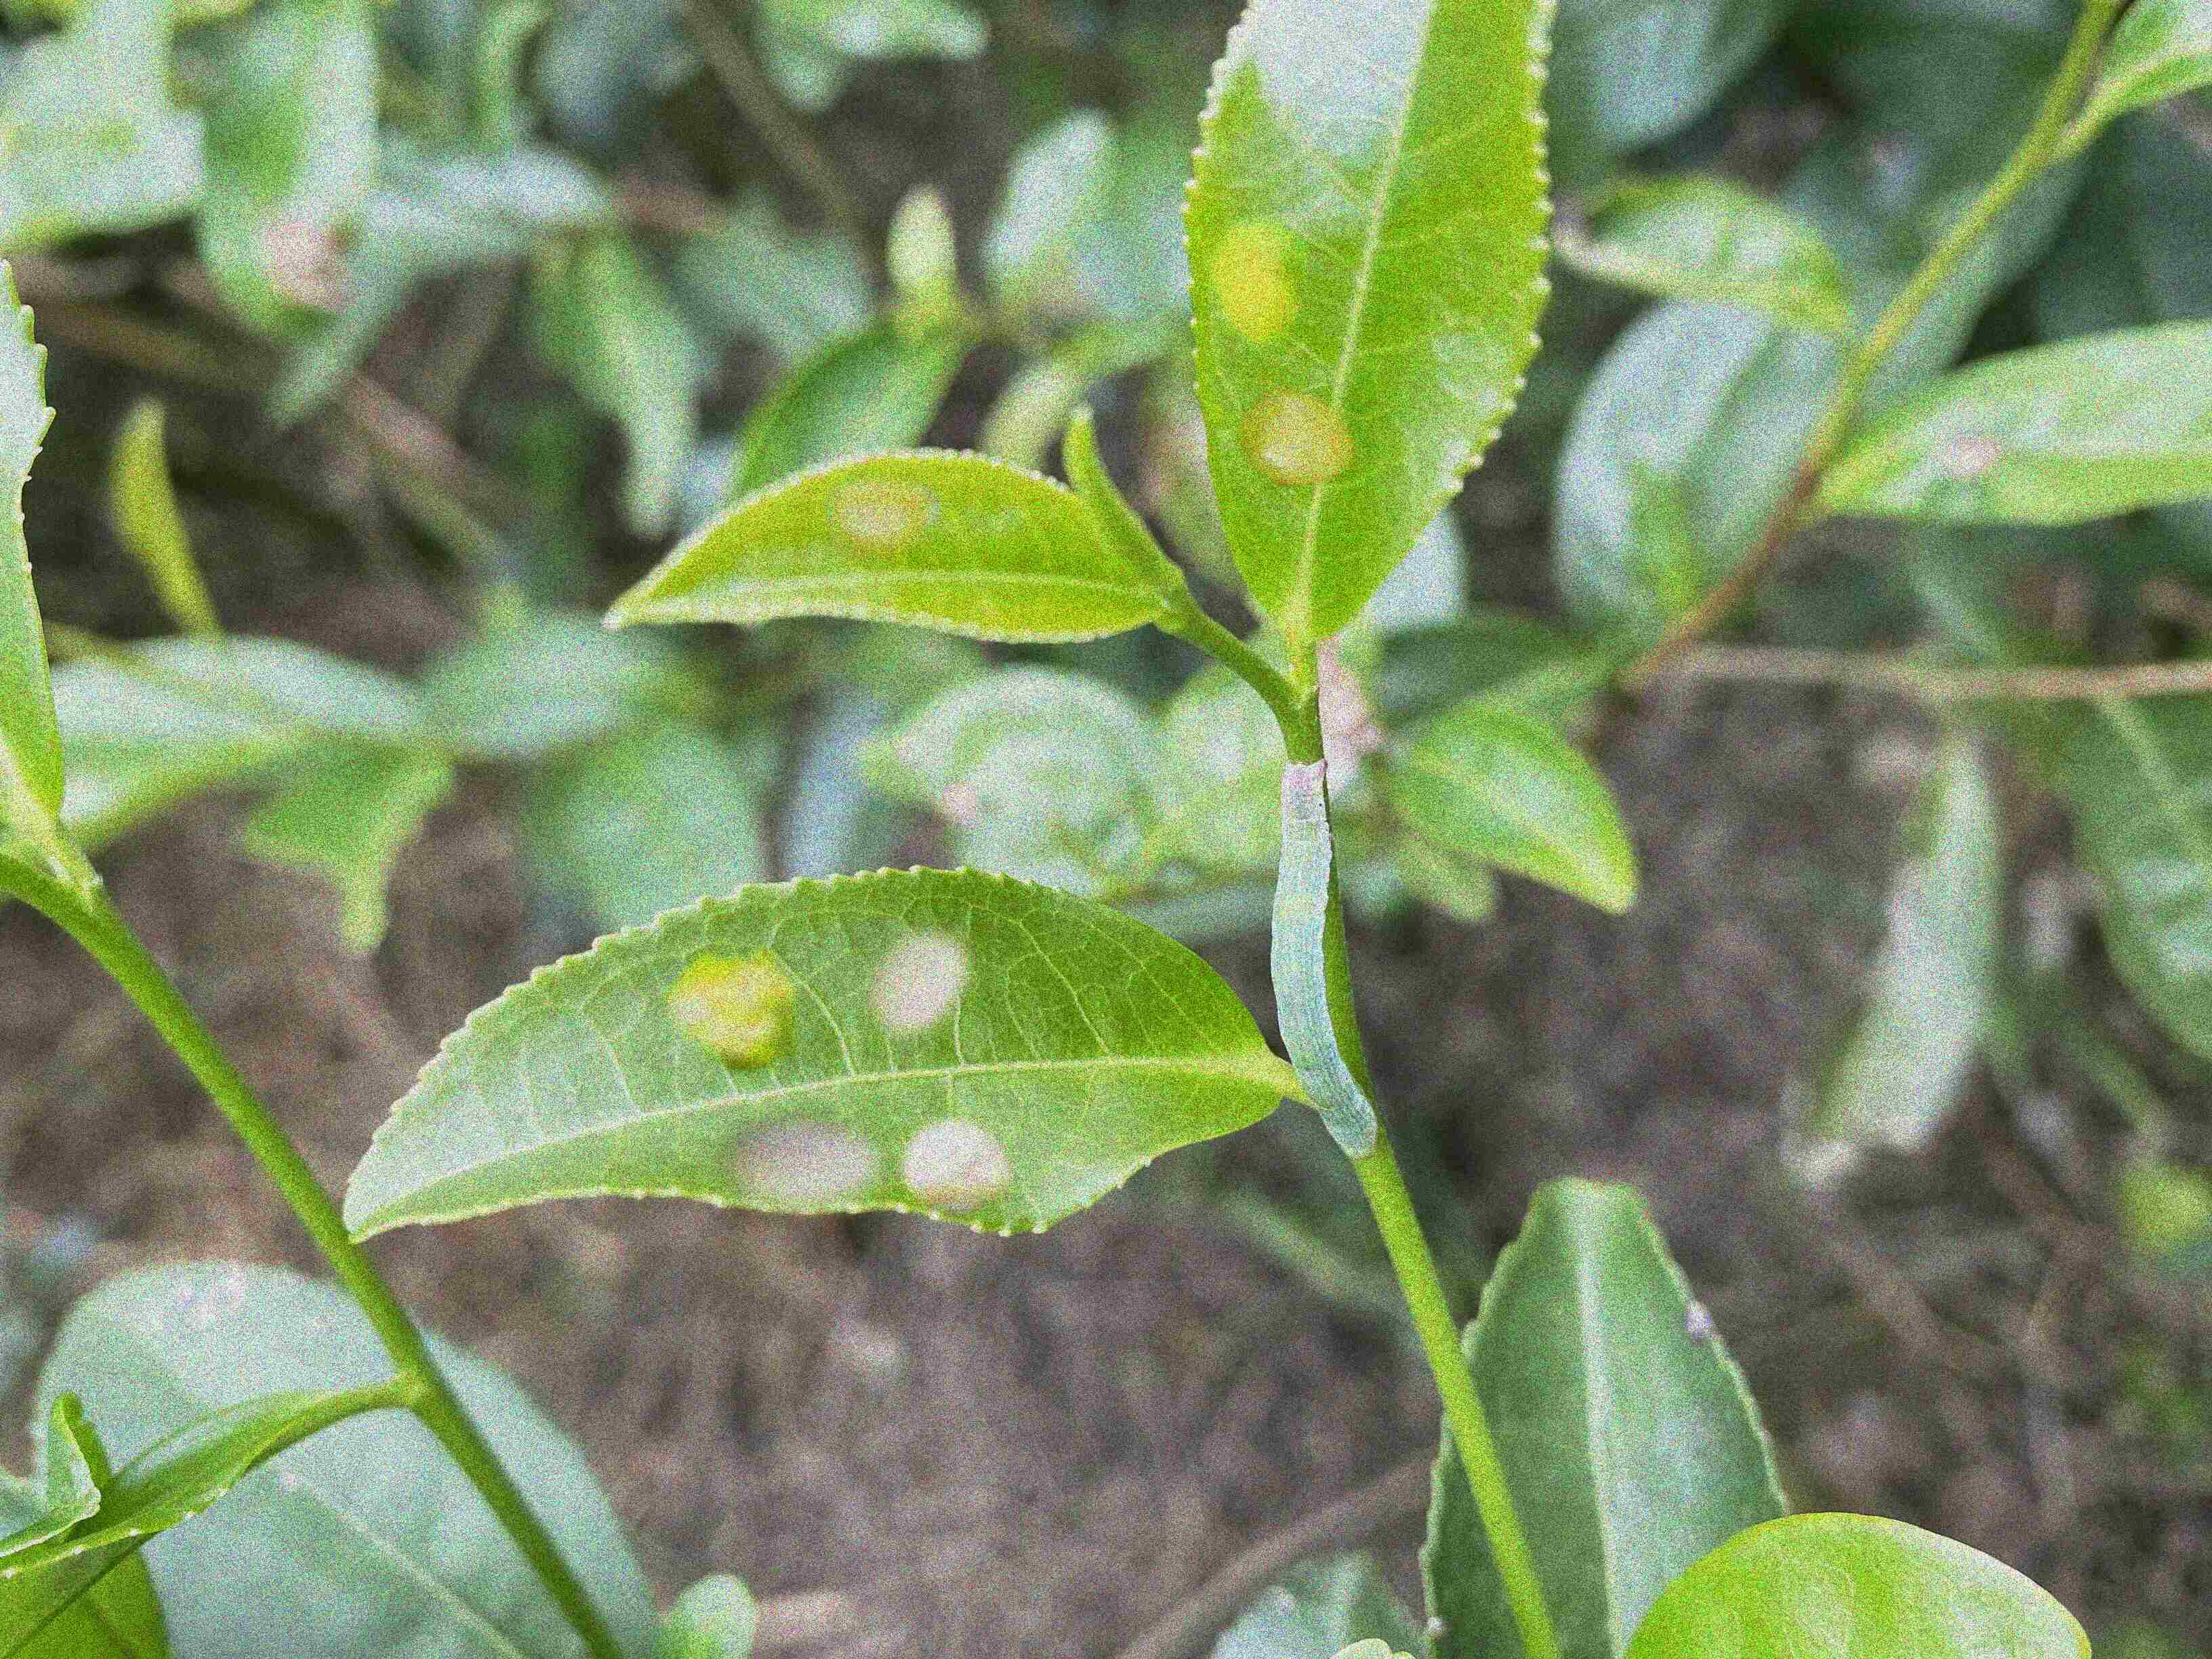chabing_high: (341, 861, 1277, 1248), (1183, 3, 1569, 641)
chabing_low: (599, 450, 1169, 641)
